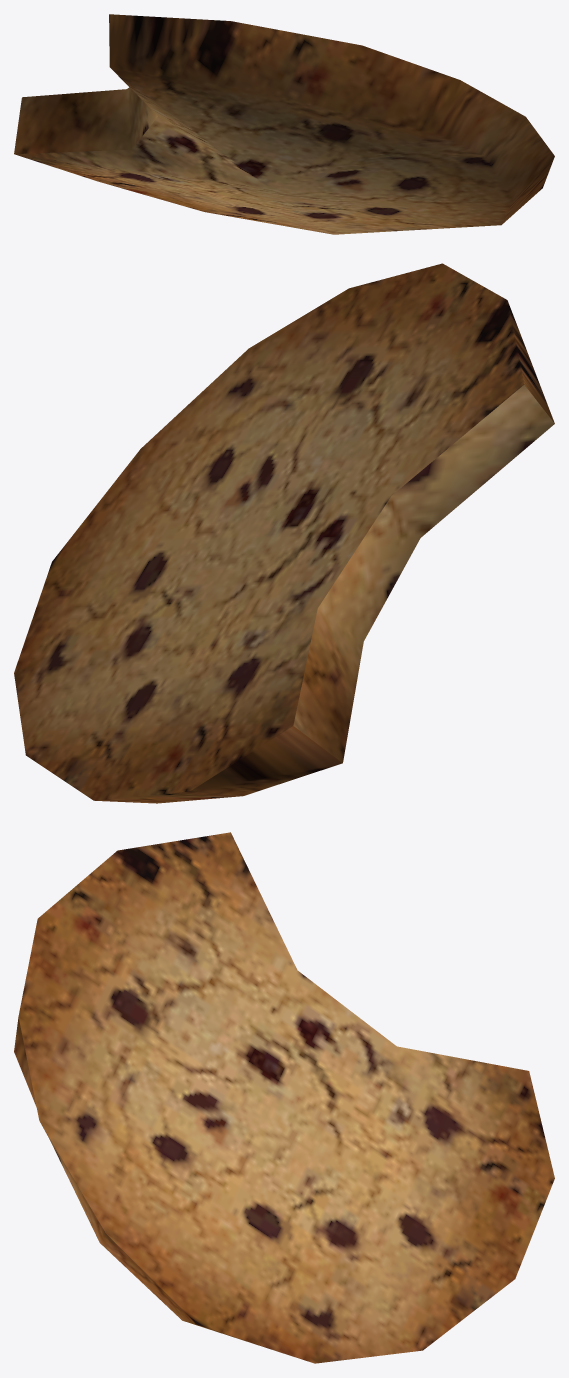
Rendered from oraclecookie_hand_bitten.fbx.
3 views of the same model, one above another, from view 1: azimuth 30°, elevation 25°; view 2: azimuth 150°, elevation 25°; view 3: azimuth 270°, elevation 25° (orthographic). The views are drawn at different scales.
Visible parts, largest first — view 1: mesh_0; view 2: mesh_0; view 3: mesh_0.
Boxes of the visible parts, left/top/right/bottom form: mesh_0: left=14, top=14, right=554, bottom=234; mesh_0: left=14, top=263, right=554, bottom=803; mesh_0: left=14, top=832, right=554, bottom=1363.
Bounding box in the file's own units: 7.81 × 6.22 × 8.07.
1 material, 1 textured.
